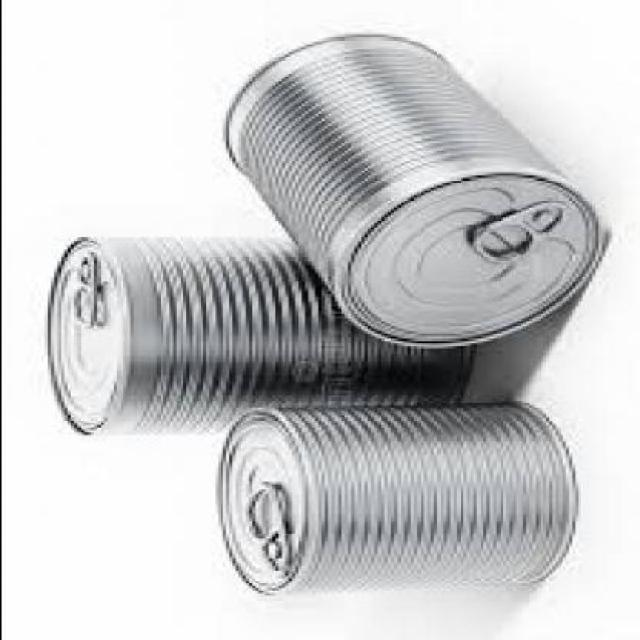METAL: (218, 30, 607, 348), (43, 232, 472, 432), (208, 395, 574, 591)
